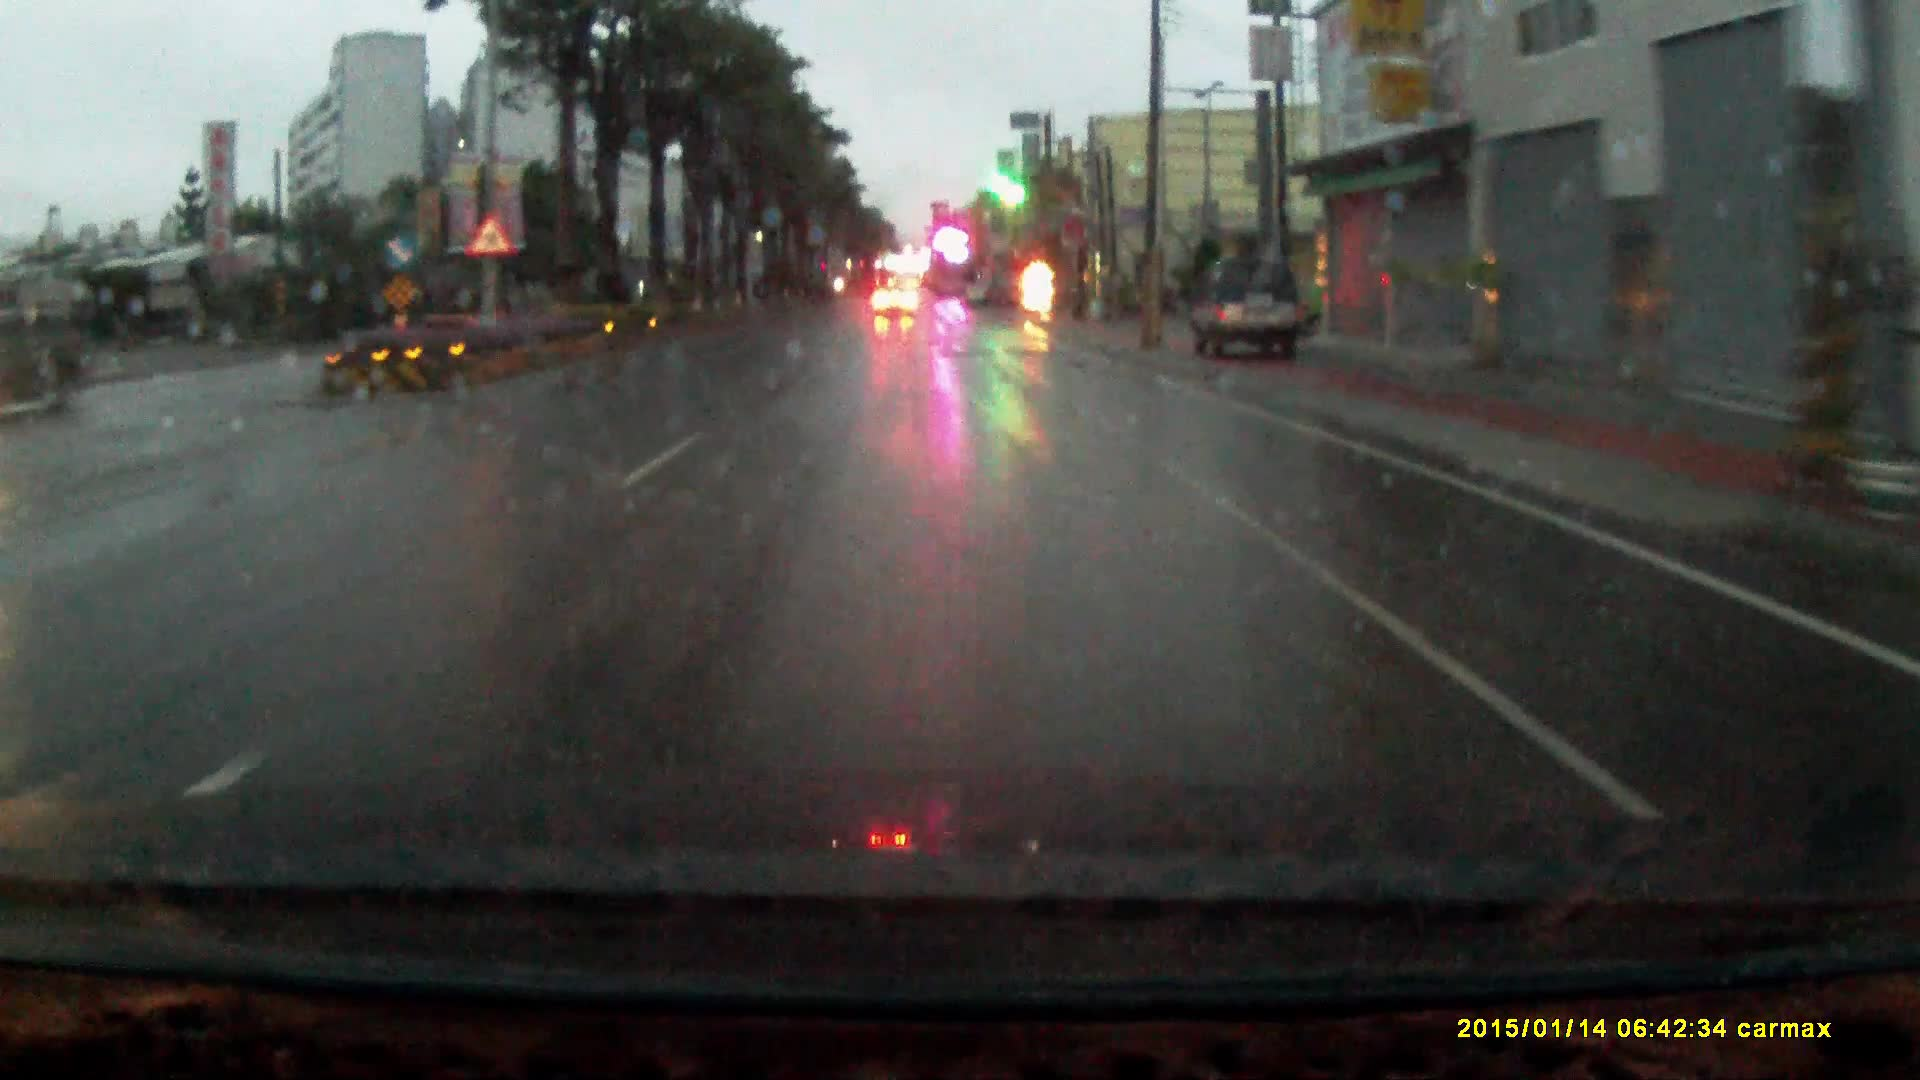vehicle: (1188, 258, 1309, 369), (1, 311, 99, 419), (872, 285, 918, 320)
